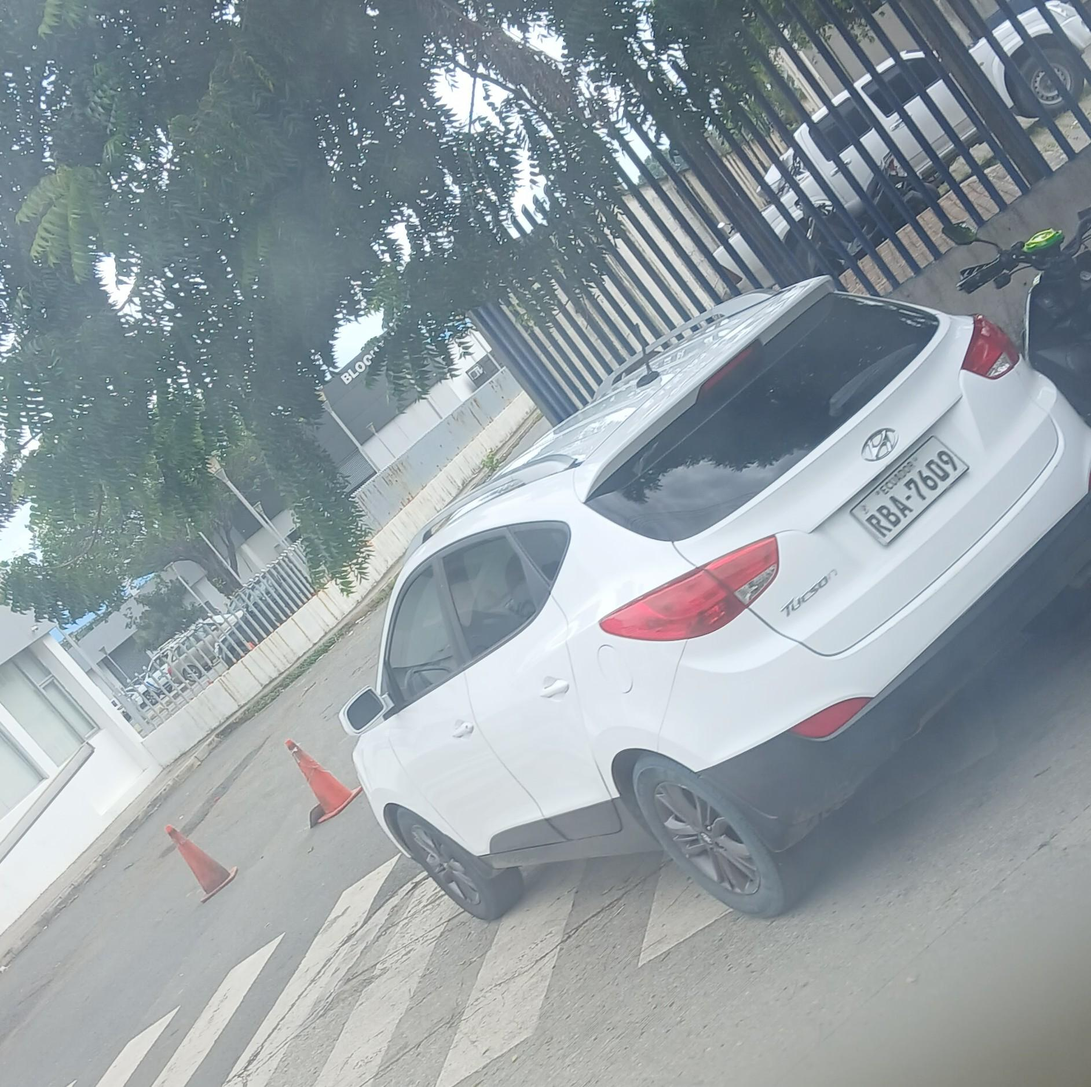license_plate: (844, 435, 968, 545)
